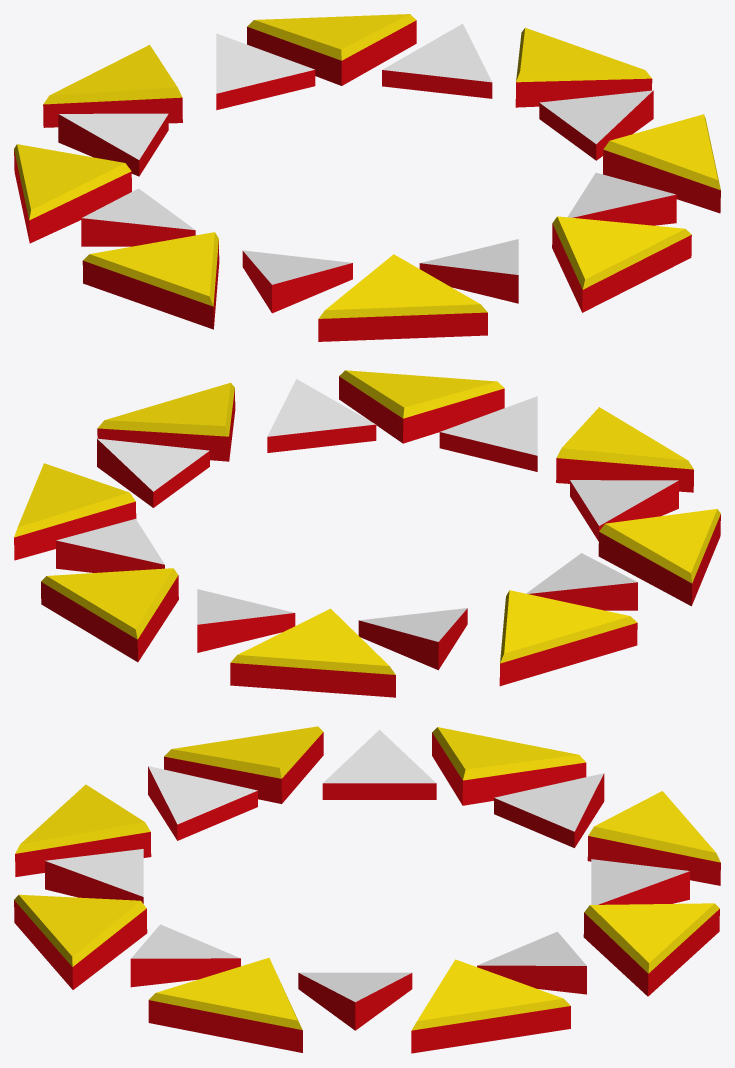
Rendered from collar.glb.
3 renders of one model, top to bottom at view 1: azimuth 30°, elevation 25°; view 2: azimuth 150°, elevation 25°; view 3: azimuth 270°, elevation 25°, orthographic.
Visible parts, largest first — view 1: Cylinder.016, Cylinder.021; view 2: Cylinder.016, Cylinder.021; view 3: Cylinder.016, Cylinder.021.
Boxes of the visible parts, x1=… form: Cylinder.016: x1=14, y1=14, x2=720, y2=341; Cylinder.021: x1=58, y1=24, x2=676, y2=313; Cylinder.016: x1=14, y1=370, x2=720, y2=697; Cylinder.021: x1=56, y1=379, x2=678, y2=670; Cylinder.016: x1=14, y1=726, x2=720, y2=1053; Cylinder.021: x1=45, y1=729, x2=689, y2=1030.
Bounding box in the file's own units: 3.38 × 0.2157 × 3.38.
